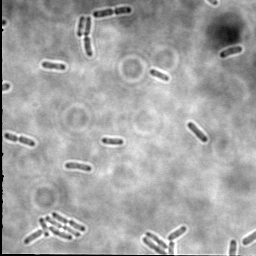Dividing: (3, 130, 37, 149), (141, 234, 168, 255), (93, 6, 133, 20), (82, 15, 95, 57), (145, 230, 169, 250)
Microcolony: (24, 210, 87, 245)
Rod: (185, 121, 210, 144), (218, 44, 244, 60), (40, 59, 68, 73), (64, 160, 94, 173), (166, 225, 188, 242), (148, 68, 171, 83), (75, 14, 86, 38), (101, 136, 125, 147)
